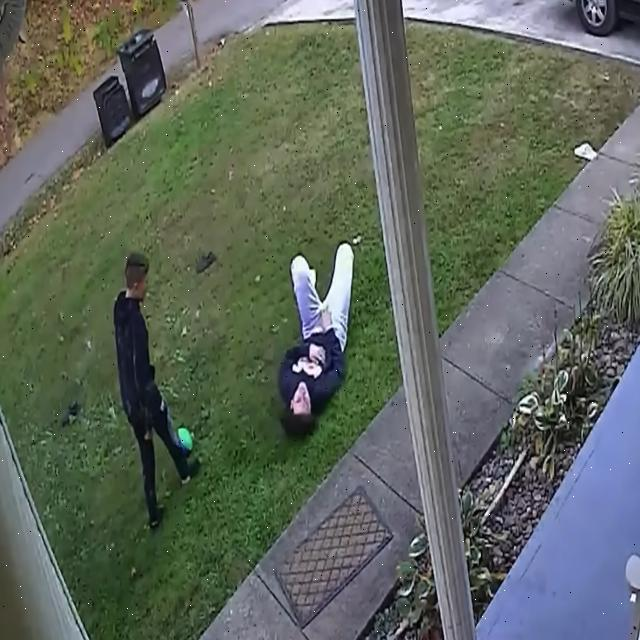fallen: (279, 243, 354, 434)
standing: (114, 253, 199, 527)
